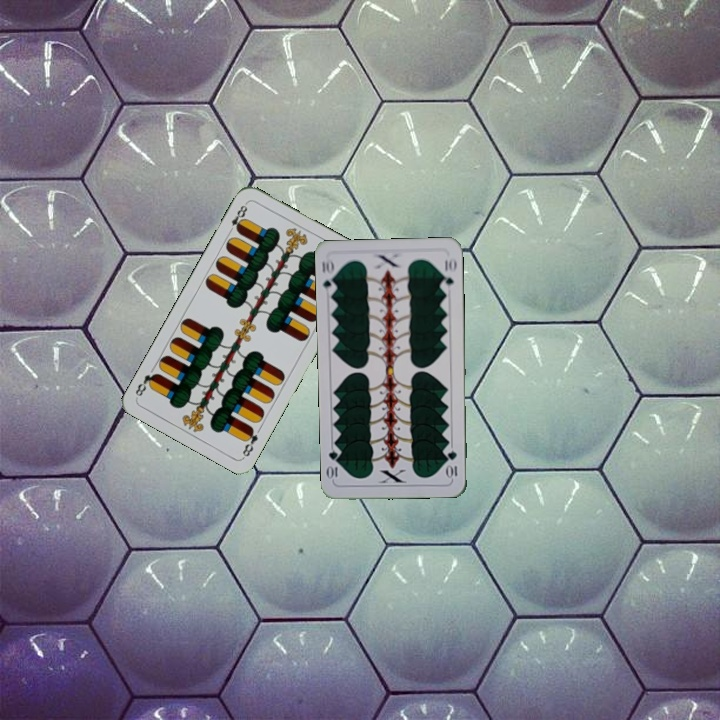E8: (224, 199, 250, 236), (238, 423, 261, 460)
G10: (318, 255, 338, 296), (444, 446, 460, 480)
